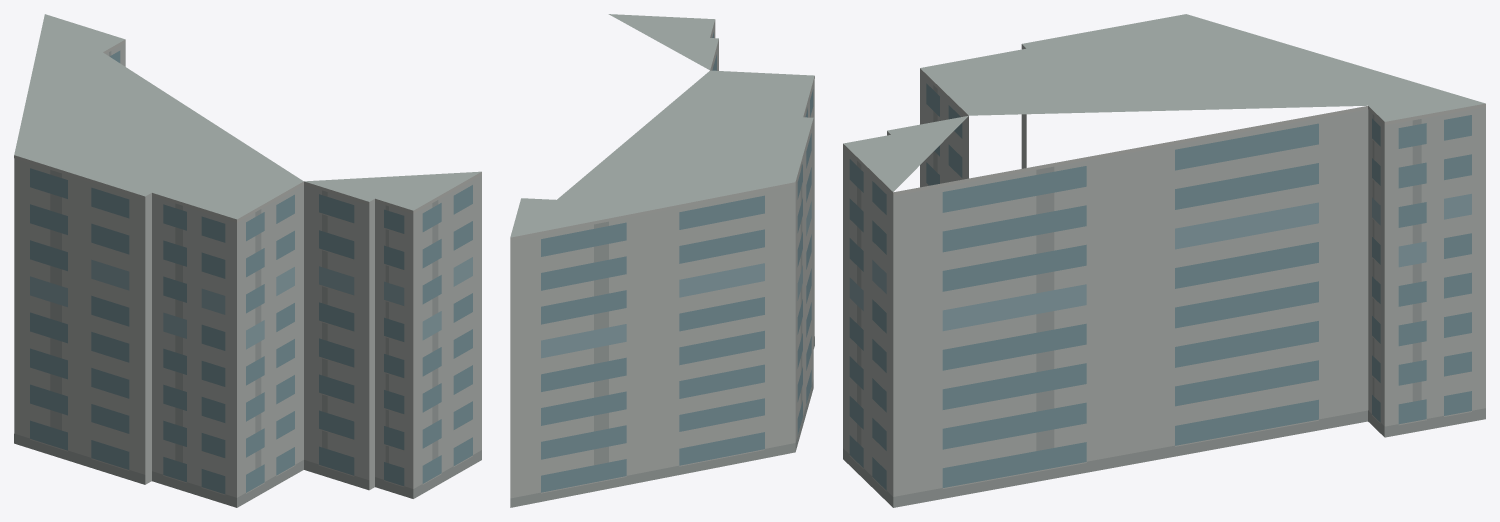
File: survey-upis-32795323.glb
3 renders of one model, left to right at view 1: azimuth 30°, elevation 25°; view 2: azimuth 150°, elevation 25°; view 3: azimuth 270°, elevation 25°, orthographic. The views are drawn at different scales.
Parts seen in each view (by area): view 1: survey-upis-32795323.tmp; view 2: survey-upis-32795323.tmp; view 3: survey-upis-32795323.tmp.
Part boxes in pixels (left/top/right/bottom): survey-upis-32795323.tmp: left=14, top=14, right=481, bottom=507; survey-upis-32795323.tmp: left=510, top=14, right=814, bottom=507; survey-upis-32795323.tmp: left=843, top=14, right=1485, bottom=507.
Size of the model in its own units: 25.87 by 21.35 by 39.41.
